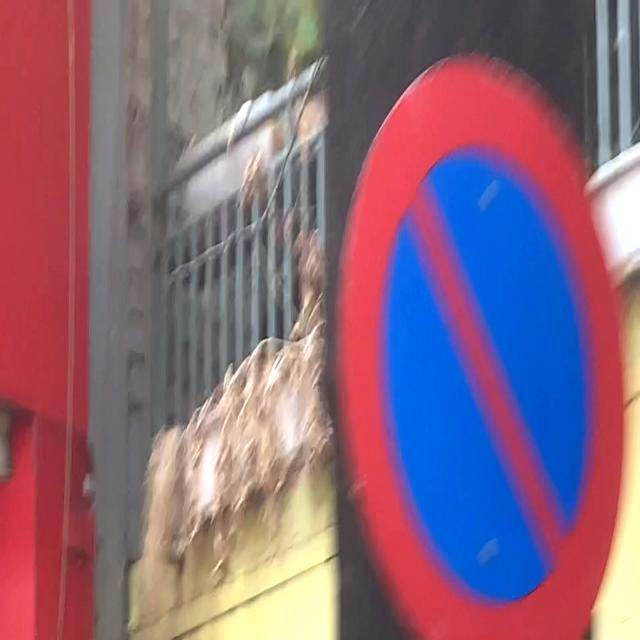Cam do xe: (336, 54, 623, 640)
